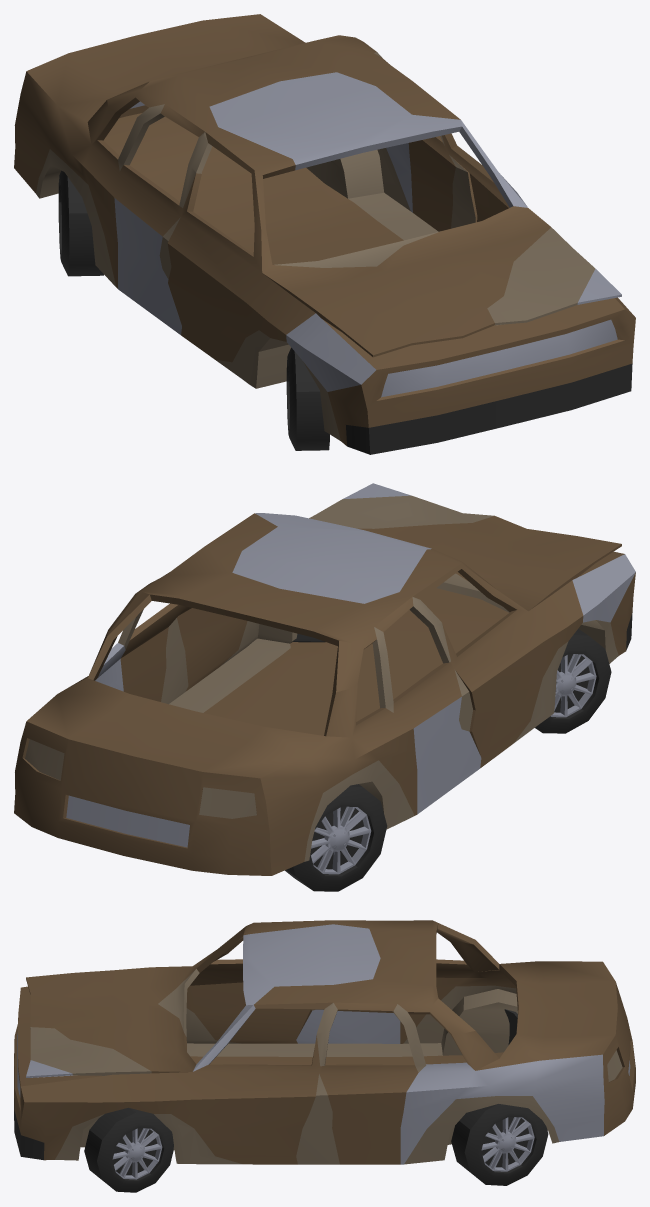
The model's file is Debris_BrokenCar.fbx.
3 renders of one model, top to bottom at view 1: azimuth 30°, elevation 25°; view 2: azimuth 150°, elevation 25°; view 3: azimuth 270°, elevation 25°, orthographic. The views are drawn at different scales.
Visible parts, largest first — view 1: Debris_BrokenCar; view 2: Debris_BrokenCar; view 3: Debris_BrokenCar.
Part boxes in pixels (box(x1,y1,x2,y2)): Debris_BrokenCar: box(14, 14, 635, 454); Debris_BrokenCar: box(14, 483, 635, 891); Debris_BrokenCar: box(14, 920, 635, 1192).
Bounding box in the file's own units: 264 × 176 × 549.
